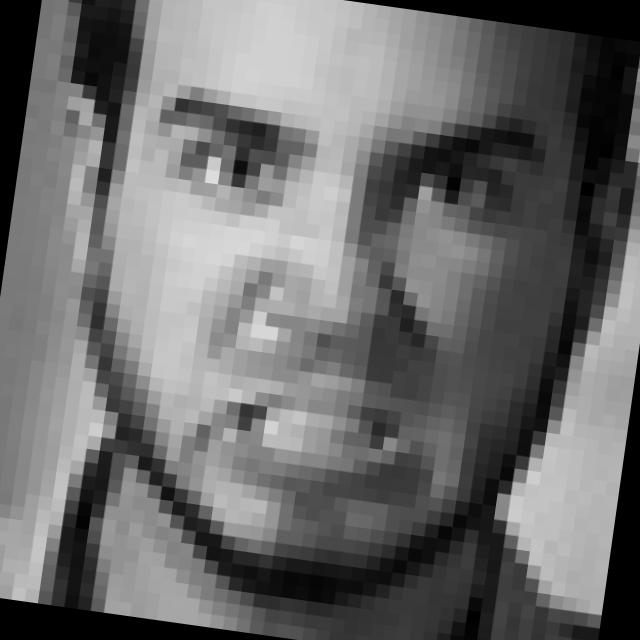angry: (104, 62, 558, 519)
